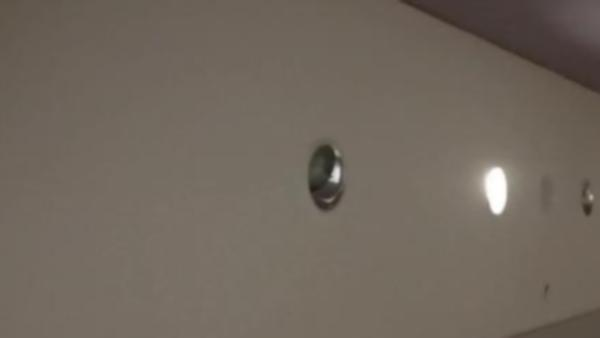light_off: (275, 109, 363, 234), (573, 173, 600, 243)
